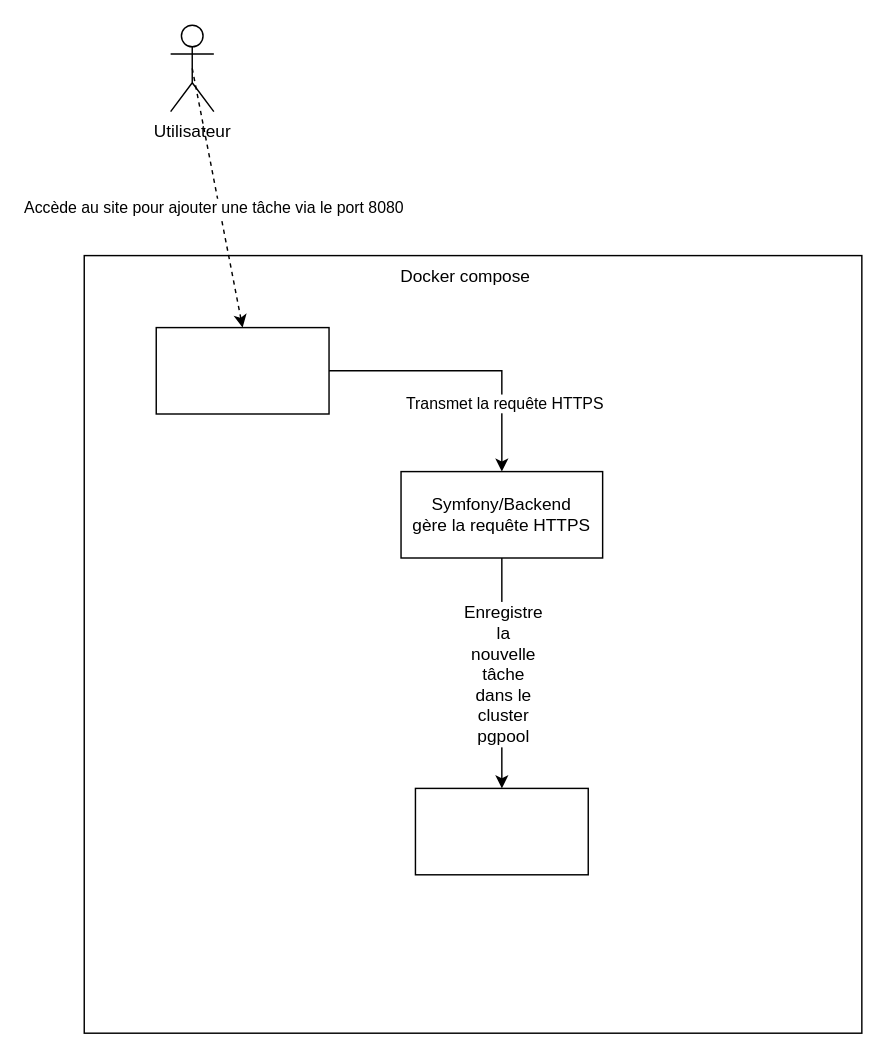
Some shapes in this 888 by 1058 pixel diagram are drawn without their labels. The shapes that lost their labels are listed below. From the top down, each one's box as (x1, y1, x2, y2) in pixels, then its label:
(155, 326, 329, 414): Serveur nginx réceptionne les requêtes HTTPS
(414, 787, 588, 875): Cluster Postgresql pgpool port 5432
